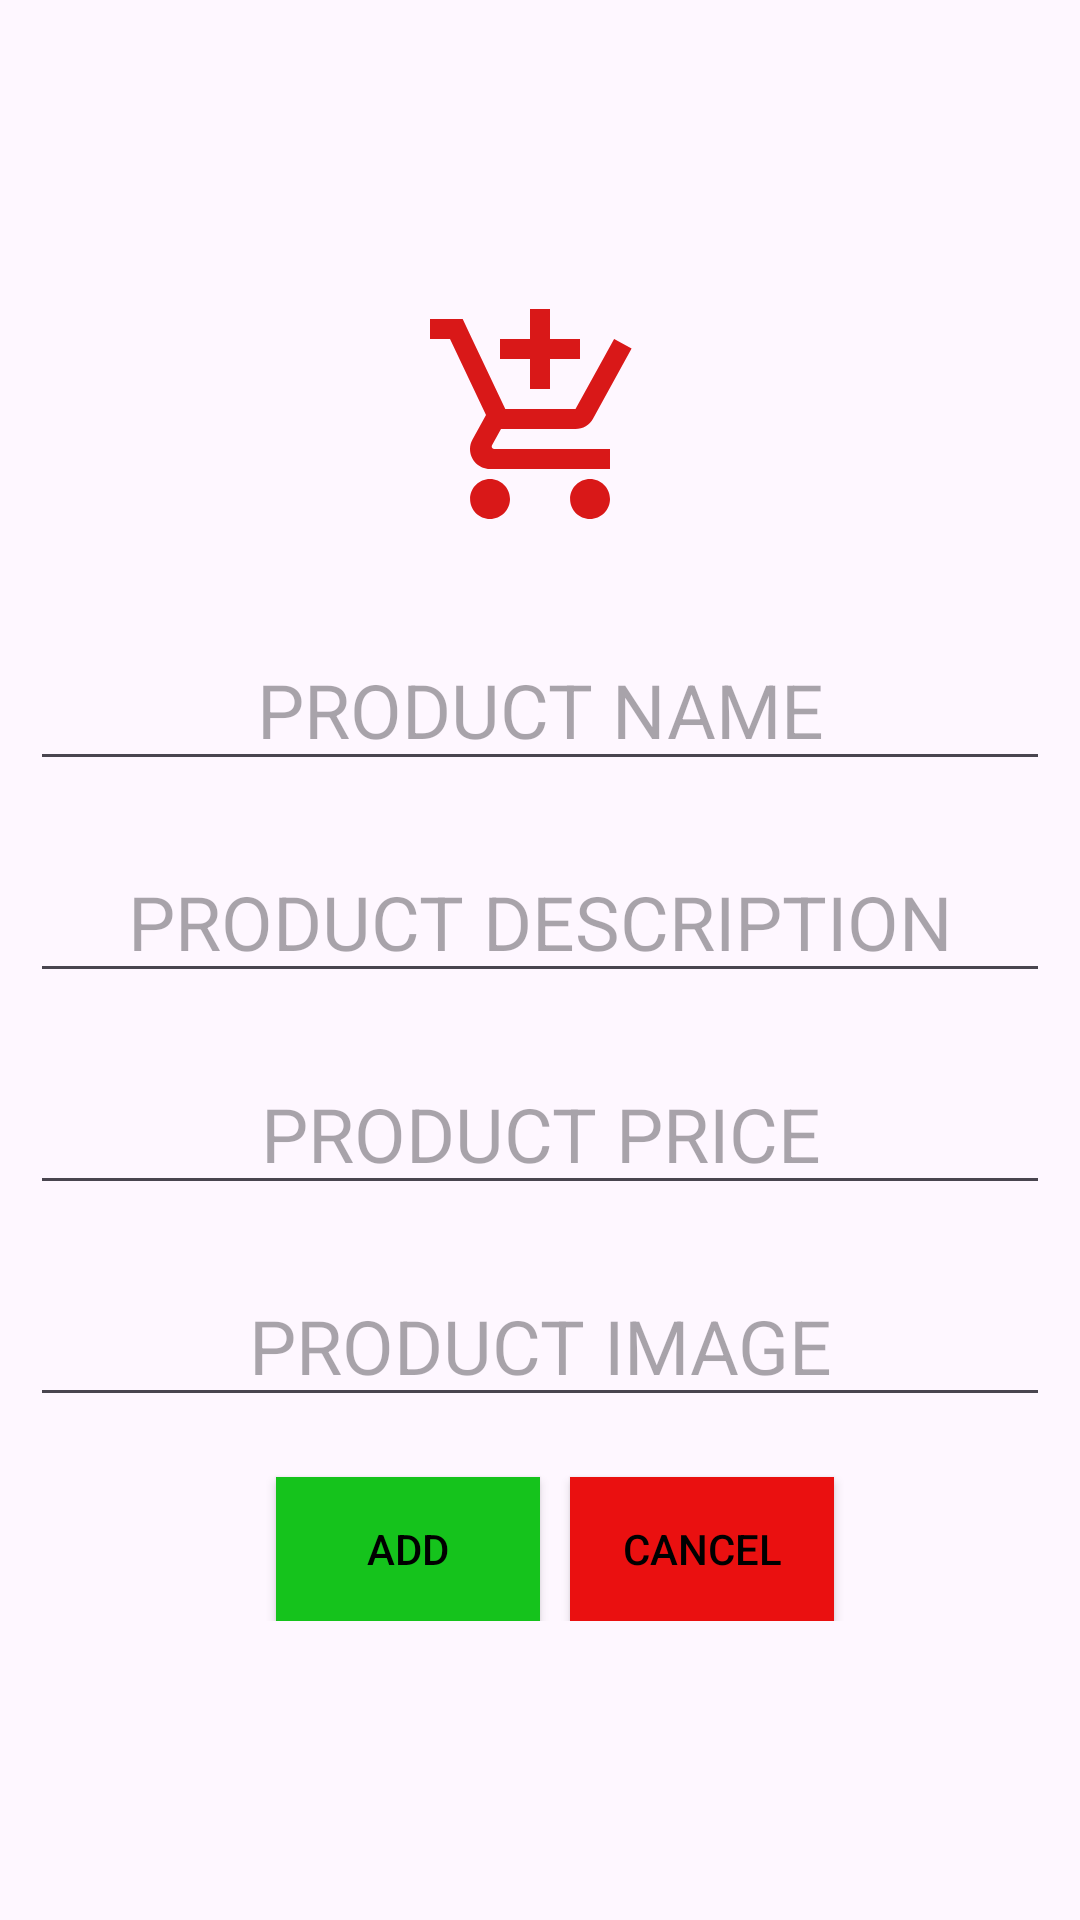

Screen size 1080px×1920px. Icon name, then its box in pixels as (left=x1, top=y1, right=x2, bottom=y2):
add shopping cart: (left=430, top=309, right=632, bottom=519)
